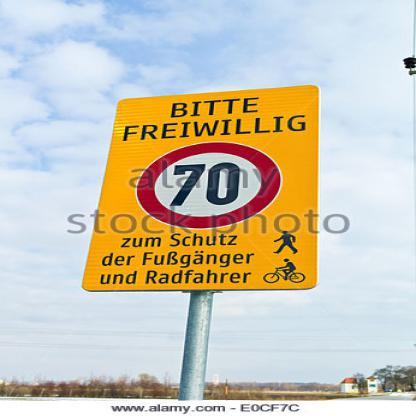Speed Limit 70: (137, 142, 283, 228)
